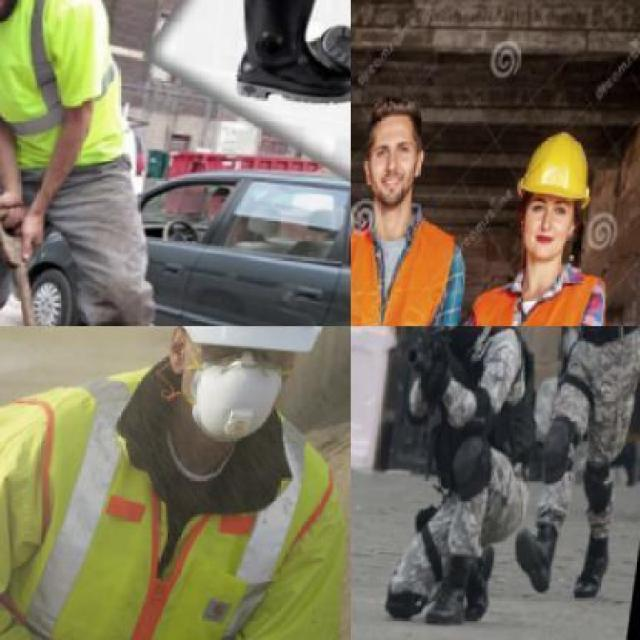vest: (0, 356, 349, 638), (0, 0, 163, 180), (417, 326, 554, 476), (351, 209, 471, 325)
